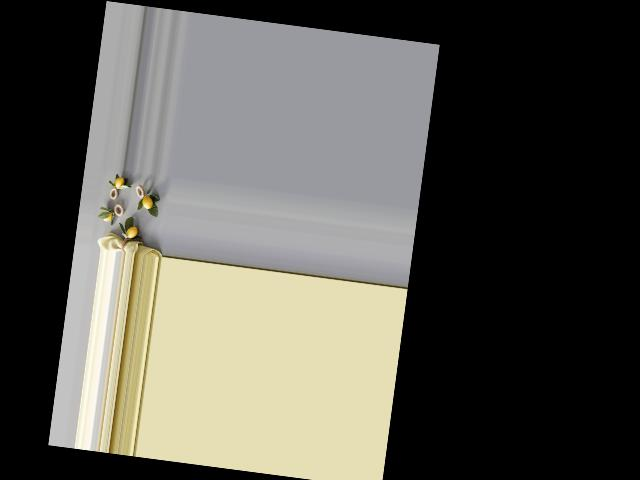lemon: (113, 173, 128, 191)
